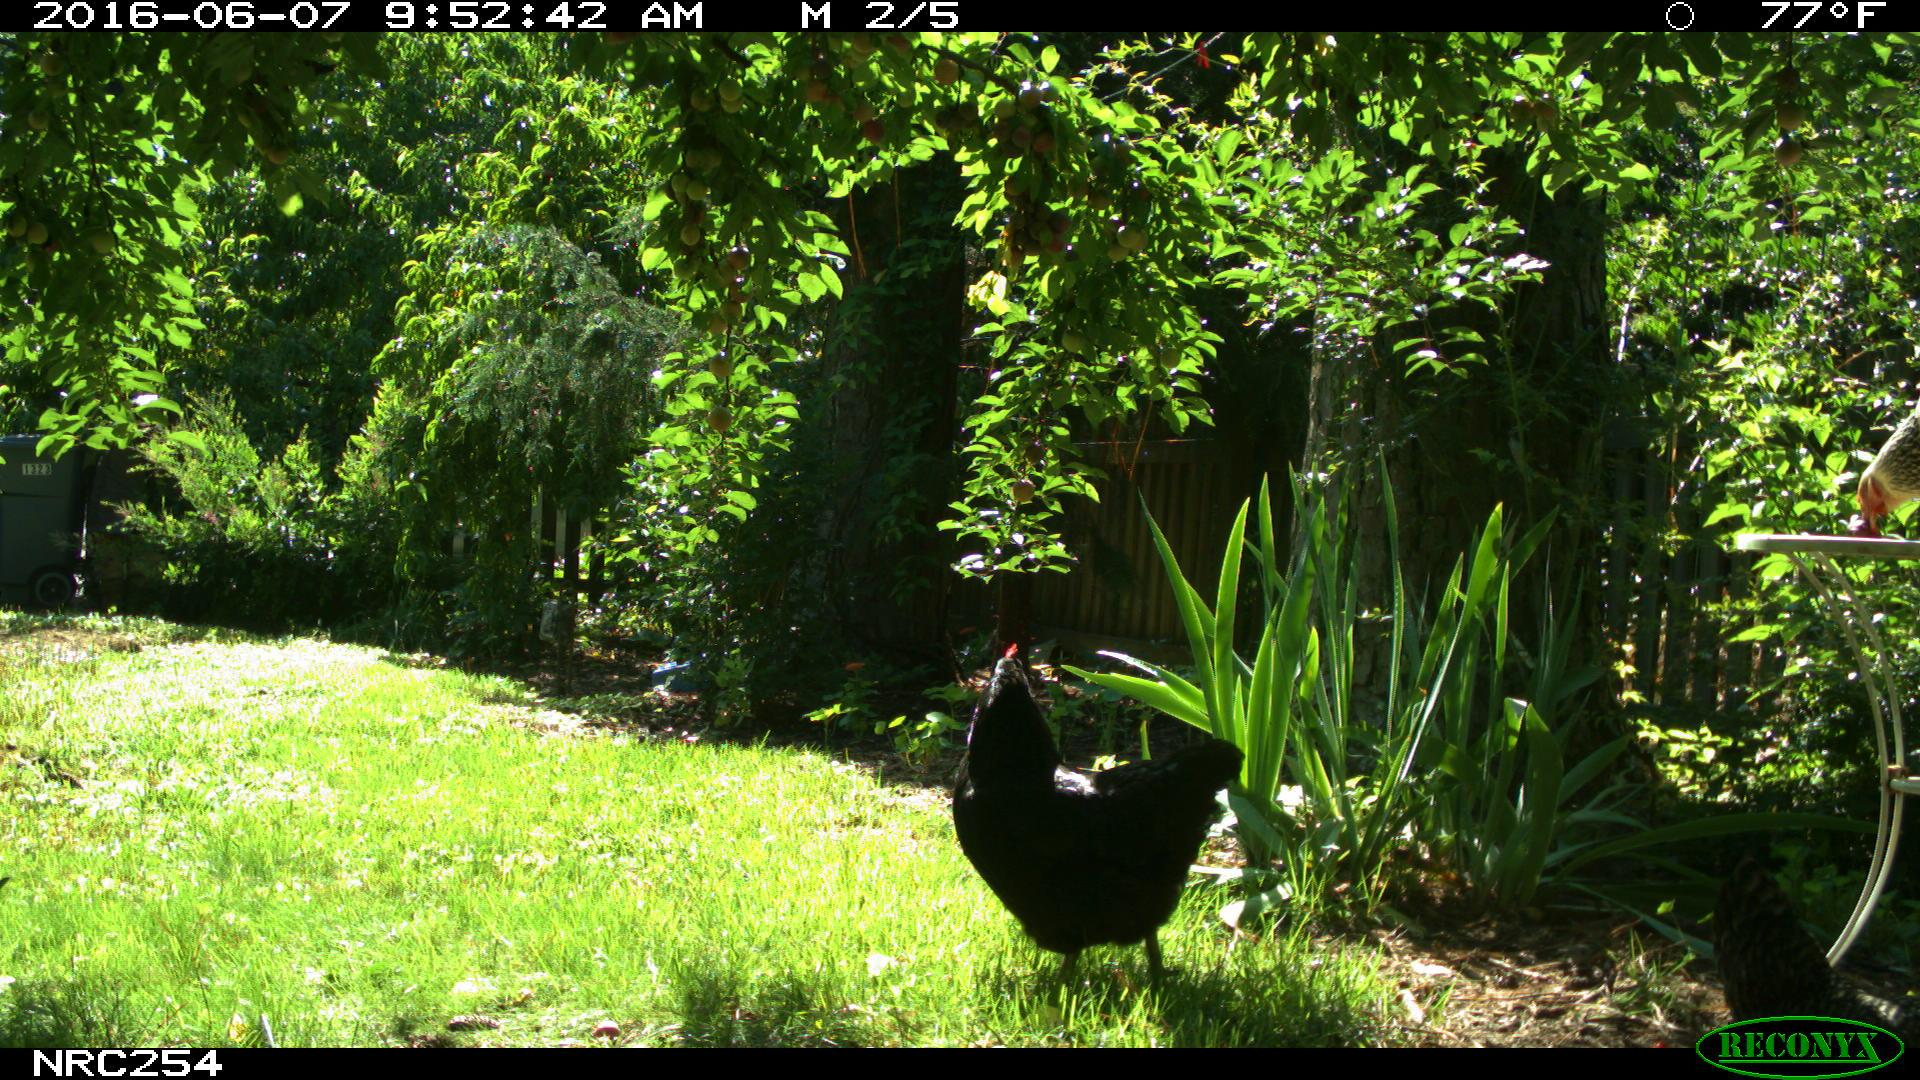Animal: (949, 647, 1246, 992)
